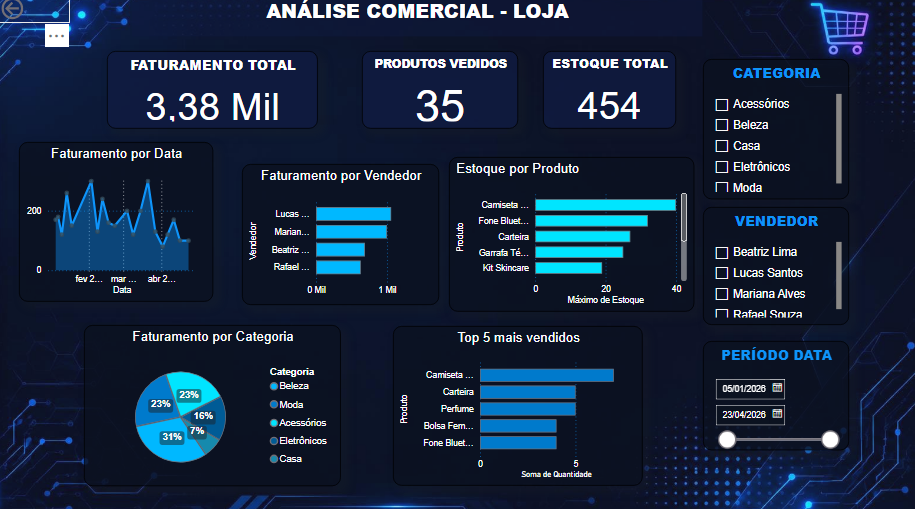

This screenshot's page, from the dashboard's own definition file:
{"tool":"powerbi","page":{"name":"Página 1","canvas":[1280,720],"ordinal":0},"visuals":[{"type":"textbox","box":[186.4,0,793.4,59.3],"z":0},{"type":"lineChart","title":"Faturamento por Data","fields":{"Y":["Sum(Análise de vendas.Faturamento)"],"Category":["Análise de vendas.Data"]},"box":[29.2,205.7,269.7,222.4],"z":1000},{"type":"barChart","title":"Faturamento por Vendedor","fields":{"Category":["Análise de vendas.Vendedor"],"Y":["Sum(Análise de vendas.Faturamento)"]},"box":[339.2,236.3,273.8,196],"z":2000},{"type":"barChart","title":"Top 5 mais vendidos","fields":{"Category":["Análise de vendas.Produto"],"Y":["Sum(Análise de vendas.Quantidade)"]},"box":[549,461.5,347.5,222.4],"z":3000},{"type":"barChart","title":"Estoque por Produto","fields":{"Category":["Análise de vendas.Produto"],"Y":["Max(Análise de vendas.Estoque)"]},"box":[626.9,226.6,340.5,215.4],"z":4000},{"type":"slicer","title":"CATEGORIA    ","fields":{"Values":["Análise de vendas.Categoria"]},"box":[979.9,90.3,202.9,194.6],"z":5000},{"type":"slicer","title":"VENDEDOR","fields":{"Values":["Análise de vendas.Vendedor"]},"box":[979.9,296.1,202.9,164],"z":6000},{"type":"actionButton","box":[0,0,100,40],"z":7000},{"type":"slicer","title":"PERÍODO DATA","fields":{"Values":["Análise de vendas.Data"]},"box":[979.9,482.3,202.9,145.9],"z":8000},{"type":"card","title":"FATURAMENTO TOTAL","fields":{"Values":["Análise de vendas.Faturamento Total"]},"box":[151.5,79.2,293.3,108.4],"z":9000},{"type":"card","title":"PRODUTOS VEDIDOS","fields":{"Values":["Análise de vendas.Produtos Vendidos"]},"box":[505.9,79.2,216.8,126.5],"z":10000},{"type":"pieChart","title":"Faturamento por Categoria","fields":{"Category":["Análise de vendas.Categoria"],"Y":["Sum(Análise de vendas.Faturamento)"]},"box":[119.5,460.1,357.2,223.8],"z":11000},{"type":"card","title":"ESTOQUE TOTAL","fields":{"Values":["Análise de vendas.Estoque Total"]},"box":[757.5,79.2,184.9,126.5],"z":12000}]}

Visuals, with their boxes in screenshot pixels (x1, y1, x2, y2), scaled from the page's 1280x720 canvas onto the 915x509 screenshot:
textbox: x1=133, y1=0, x2=700, y2=42
"Faturamento por Data" lineChart: x1=21, y1=145, x2=214, y2=303
"Faturamento por Vendedor" barChart: x1=242, y1=167, x2=438, y2=306
"Top 5 mais vendidos" barChart: x1=392, y1=326, x2=641, y2=483
"Estoque por Produto" barChart: x1=448, y1=160, x2=692, y2=312
"CATEGORIA    " slicer: x1=700, y1=64, x2=846, y2=201
"VENDEDOR" slicer: x1=700, y1=209, x2=846, y2=325
actionButton: x1=0, y1=0, x2=71, y2=28
"PERÍODO DATA" slicer: x1=700, y1=341, x2=846, y2=444
"FATURAMENTO TOTAL" card: x1=108, y1=56, x2=318, y2=133
"PRODUTOS VEDIDOS" card: x1=362, y1=56, x2=517, y2=145
"Faturamento por Categoria" pieChart: x1=85, y1=325, x2=341, y2=483
"ESTOQUE TOTAL" card: x1=541, y1=56, x2=674, y2=145
